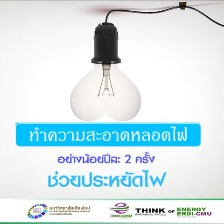light_bulb: (63, 43, 147, 122)
